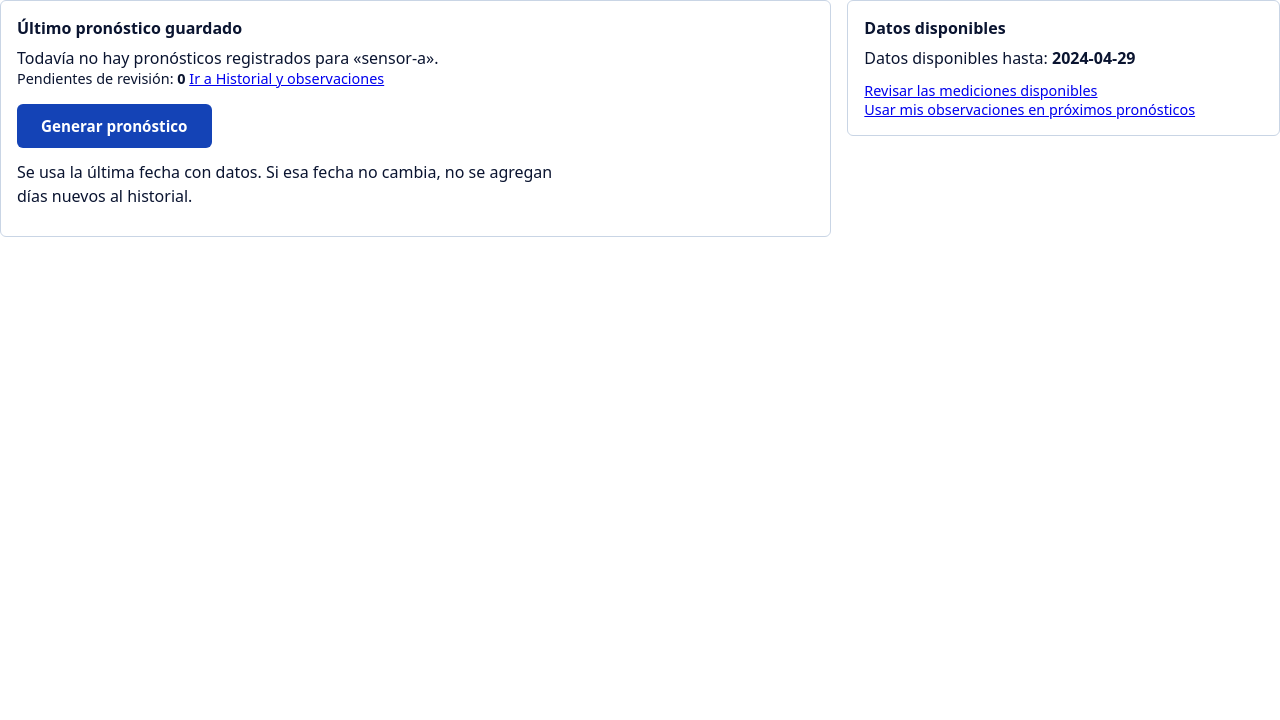
ResumenView › keeps a successful forecast result even if the follow-up history refresh fails, and offers a manual retry
The image size is (1280, 720).
Expected: the text "Todavía no hay pronósticos registrados para «sensor-a»." is shown, 17,47 -> 438,69
Click the button "Generar pronóstico" at (114, 126), box 17,104 -> 212,148
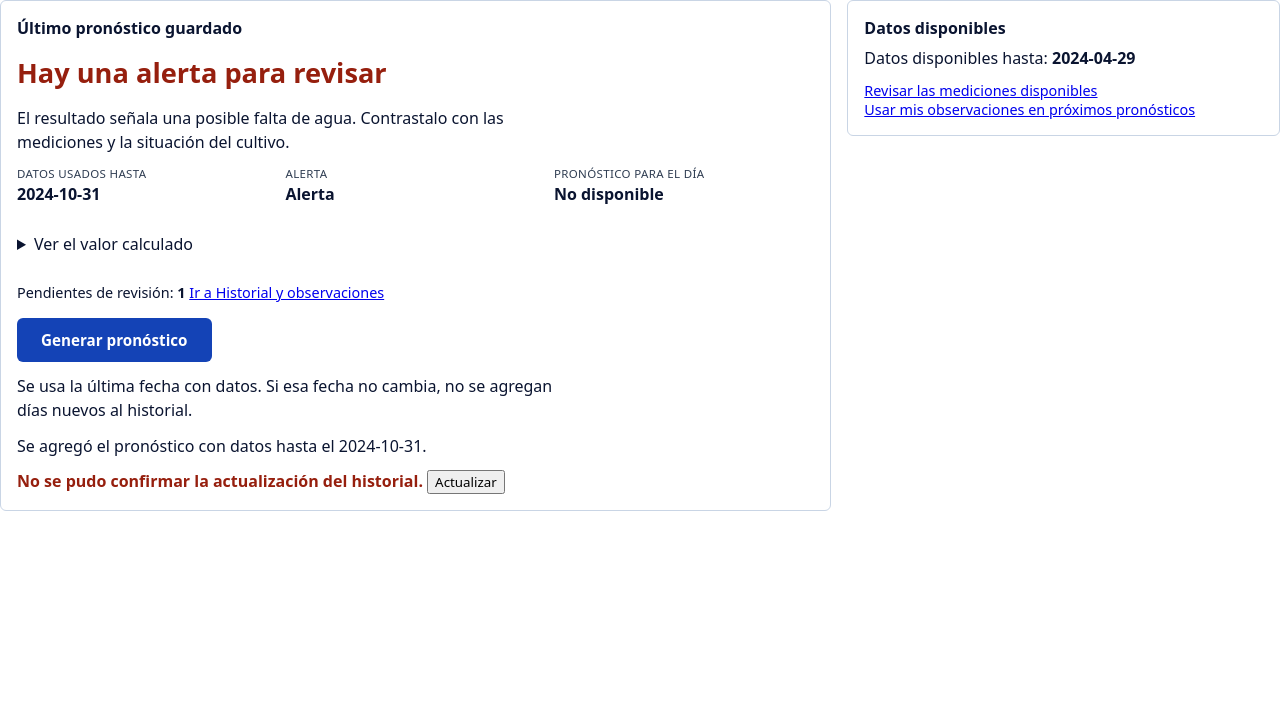
Result: the text "2024-10-31" is shown at 17,183 -> 100,205
Result: the text "No se pudo confirmar la actualización del historial. Actualizar" is shown at 17,470 -> 505,494
